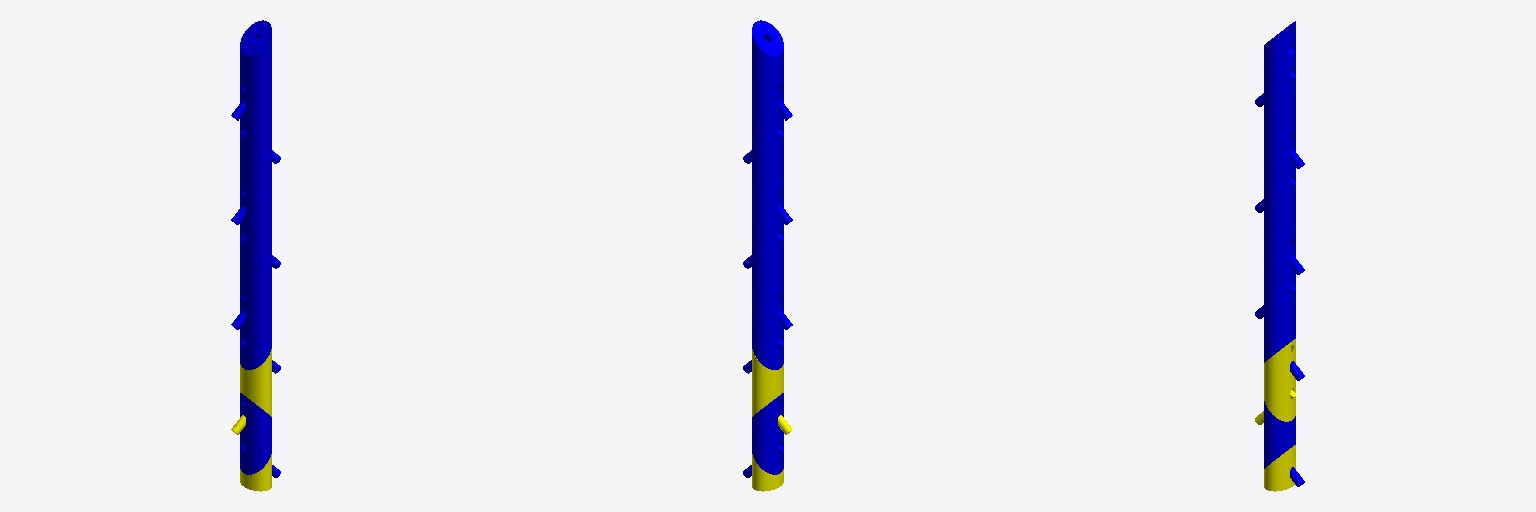
robot.urdf — lisa:
<?xml version="1.0"?>

<robot name="lisa">
	<link name="world"/>

    <joint name="base_joint" type="fixed">
    		<parent link="world"/>
    		<child link="base_link"/>
    		<origin xyz="0 0 0" rpy="0 0 0" />
  	</joint>

	<link name="base_link">
   		<inertial>
      		<origin xyz="0.0 0.0 0.0" rpy="0 0 0"/>
      		<mass value="0.0"/>
      		<inertia ixx="0.0" ixy="0.0" ixz="0.0" iyy="0.0" iyz="0.0" izz="0.0"/>
    	</inertial>
		
		<visual>
			<geometry>
				<mesh filename = "package://elissa3_homer/lisa_parts/Basis_3.stl" scale="0.01 0.01 0.01"/> <!--scale from mm to m should be 0.001--> <!--scale="0.01 0.01 0.01"--> 
			</geometry>
				
			<!--origin - the reference frame of the visual element with respect to the reference frame of the link -->
			<!--rpy -r is roll, p-pitch and y-yaw (Eulerwinkel) -->
			<!--xyz - x,y,z -offsets -->
			<origin xyz="0 0 0" rpy="0 0 0" />
			<material name="yellow">
				<color rgba="1 1 0 1"/>
			</material>
		</visual>
		
    	<collision>
      		<origin xyz="0.0 0.0 0.0" rpy="0 0 0"/>
      		<geometry>
        		<mesh filename = "package://elissa3_homer/lisa_parts/Basis_3.stl" scale="0.01 0.01 0.01"/>
      		</geometry>
    	</collision>	
	</link>

	<joint name="joint_1" type="revolute"> <!-- maybe continous -->
		<parent link="base_link"/>
		<child link="link_1"/>
		<origin xyz="0 0 0.25" rpy="0 -0.7854 0"/>
		<axis xyz="0 0 1"/>
		<limit effort="300" velocity="2.0" lower="-6" upper="6"/>
		<dynamics damping="0.1"/>
	</joint>
	
	<link name="link_1">
		<inertial>
      		<origin xyz="0.0 0 0.0" rpy="0 0 0" />
      		<mass value="0.0"/>
      		<inertia ixx="0.0" ixy="0.0" ixz="0.0" iyy="0.0" iyz="0.0" izz="0.0"/>
    	</inertial>
    		
		<visual>
			<geometry>
				<mesh filename = "package://elissa3_homer/lisa_parts/Glied_3_NeuX.stl" scale="0.01 0.01 0.01"/> <!--scale="0.01 0.01 0.01"--> 
			</geometry>
			<origin xyz="0.0 0 0" rpy="0 0 0" />
			<material name="blue">
				<color rgba="0 0 1 1"/>
			</material>
		</visual>
		<collision>
      		<origin xyz="0.0 0 0.0" rpy="0 0 0" />
      		<geometry>
        		<mesh filename = "package://elissa3_homer/lisa_parts/Glied_3.stl" scale="0.01 0.01 0.01"/> <!--scale="0.01 0.01 0.01"-->
      		</geometry>
    	</collision>
 	</link>
	
	<joint name="joint_2" type="revolute"> <!-- maybe continous -->
		<parent link="link_1"/>
		<child link="link_2"/>
		<origin xyz="0.35355 0 0.35355" rpy="0 1.5708 0"/>
		<axis xyz="0 0 1"/>
		<limit effort="300" velocity="2.0" lower="-6" upper="6"/>
		<dynamics damping="0.1"/>
	</joint>

	<link name="link_2">
		<inertial>
      		<origin xyz="0.0 0 0.0" rpy="0 0 0" />
      		<mass value="0.0"/>
      		<inertia ixx="0.0" ixy="0.0" ixz="0.0" iyy="0.0" iyz="0.0" izz="0.0"/>
    	</inertial>
    		
		<visual>
			<geometry>
				<mesh filename = "package://elissa3_homer/lisa_parts/Glied_3_NeuX.stl" scale="0.01 0.01 0.01"/> <!--scale="0.01 0.01 0.01"--> 
			</geometry>
			<origin xyz="0.0 0 0" rpy="0 0 3.1416" />
			<material name="yellow">
				<color rgba="1 1 0 1"/>
			</material>
		</visual>
		<collision>
      		<origin xyz="0.0 0 0.0" rpy="0 0 0" />
      		<geometry>
        		<mesh filename = "package://elissa3_homer/lisa_parts/Glied_3.stl" scale="0.01 0.01 0.01"/> <!--scale="0.01 0.01 0.01"-->
      		</geometry>
    	</collision>
 	</link>

	<joint name="joint_3" type="revolute"> <!-- maybe continous -->
		<parent link="link_2"/>
		<child link="link_3"/>
		<origin xyz="-0.35355 0 0.35355" rpy="0 -1.5708  0"/>
		<axis xyz="0 0 1"/>
		<limit effort="300" velocity="2.0" lower="-6" upper="6"/>
		<dynamics damping="0.1"/>
	</joint>

	<link name="link_3">
		<inertial>
      		<origin xyz="0.0 0 0.0" rpy="0 0 0" />
      		<mass value="0.0"/>
      		<inertia ixx="0.0" ixy="0.0" ixz="0.0" iyy="0.0" iyz="0.0" izz="0.0"/>
    	</inertial>
    		
		<visual>
			<geometry>
				<mesh filename = "package://elissa3_homer/lisa_parts/Glied_3_NeuX.stl" scale="0.01 0.01 0.01"/> <!--scale="0.01 0.01 0.01"--> 
			</geometry>
			<origin xyz="0.0 0 0" rpy="0 0 0" />
			<material name="blue">
				<color rgba="0 0 1 1"/>
			</material>
		</visual>
		<collision>
      		<origin xyz="0.0 0 0.0" rpy="0 0 0" />
      		<geometry>
        		<mesh filename = "package://elissa3_homer/lisa_parts/Glied_3.stl" scale="0.01 0.01 0.01"/> <!--scale="0.01 0.01 0.01"-->
      		</geometry>
    	</collision>

	</link>

	<joint name="joint_4" type="revolute"> <!-- maybe continous -->
		<parent link="link_3"/>
		<child link="link_4"/>
		<origin xyz="0.35355 0 0.35355" rpy="0 1.5708 0"/>
		<axis xyz="0 0 1"/>
		<limit effort="300" velocity="2.0" lower="-6" upper="6"/>
		<dynamics damping="0.1"/>
	</joint>
	
	<link name="link_4">
		<inertial>
      		<origin xyz="0.0 0 0.0" rpy="0 0 0" />
      		<mass value="0.0"/>
      		<inertia ixx="0.0" ixy="0.0" ixz="0.0" iyy="0.0" iyz="0.0" izz="0.0"/>
    	</inertial>
    		
		<visual>
			<geometry>
				<mesh filename = "package://elissa3_homer/lisa_parts/Glied_3_NeuX.stl" scale="0.01 0.01 0.01"/> <!--scale="0.01 0.01 0.01"--> 
			</geometry>
			<origin xyz="0.0 0 0" rpy="0 0  3.1416" />
			<material name="yellow">
				<color rgba="0 0 1 1"/>
			</material>
		</visual>
		<collision>
      		<origin xyz="0.0 0 0.0" rpy="0 0 0" />
      		<geometry>
        		<mesh filename = "package://elissa3_homer/lisa_parts/Glied_3.stl" scale="0.01 0.01 0.01"/> <!--scale="0.01 0.01 0.01"-->
      		</geometry>
    	</collision>
 	</link>

	<joint name="joint_5" type="revolute"> <!-- maybe continous -->
		<parent link="link_4"/>
		<child link="link_5"/>
		<origin xyz="-0.35355 0 0.35355" rpy="0 -1.5708 0"/>
		<axis xyz="0 0 1"/>
		<limit effort="300" velocity="2.0" lower="-6" upper="6"/>
		<dynamics damping="0.1"/>
	</joint>

	<link name="link_5">
		<inertial>
      		<origin xyz="0.0 0 0.0" rpy="0 0 0" />
      		<mass value="0.0"/>
      		<inertia ixx="0.0" ixy="0.0" ixz="0.0" iyy="0.0" iyz="0.0" izz="0.0"/>
    	</inertial>
    		
		<visual>
			<geometry>
				<mesh filename = "package://elissa3_homer/lisa_parts/Glied_3_NeuX.stl" scale="0.01 0.01 0.01"/> <!--scale="0.01 0.01 0.01"--> 
			</geometry>
			<origin xyz="0.0 0 0" rpy="0 0  0" />
			<material name="blue">
				<color rgba="0 0 1 1"/>
			</material>
		</visual>
		<collision>
      		<origin xyz="0.0 0 0.0" rpy="0 0 0" />
      		<geometry>
        		<mesh filename = "package://elissa3_homer/lisa_parts/Glied_3.stl" scale="0.01 0.01 0.01"/> <!--scale="0.01 0.01 0.01"-->
      		</geometry>
    	</collision>
 	</link>

	<joint name="joint_6" type="revolute"> <!-- maybe continous -->
		<parent link="link_5"/>
		<child link="link_6"/>
		<origin xyz="0.35355 0 0.35355" rpy="0 1.5708 0"/>
		<axis xyz="0 0 1"/>
		<limit effort="300" velocity="2.0" lower="-6" upper="6"/>
		<dynamics damping="0.1"/>
	</joint>

	<link name="link_6">
		<inertial>
      		<origin xyz="0.0 0 0.0" rpy="0 0 0" />
      		<mass value="0.0"/>
      		<inertia ixx="0.0" ixy="0.0" ixz="0.0" iyy="0.0" iyz="0.0" izz="0.0"/>
    	</inertial>
    		
		<visual>
			<geometry>
				<mesh filename = "package://elissa3_homer/lisa_parts/Glied_3_NeuX.stl" scale="0.01 0.01 0.01"/> <!--scale="0.01 0.01 0.01"--> 
			</geometry>
			<origin xyz="0.0 0 0" rpy="0 0 3.1416" />
			<material name="yellow">
				<color rgba="0 0 1 1"/>
			</material>
		</visual>
		<collision>
      		<origin xyz="0.0 0 0.0" rpy="0 0 0" />
      		<geometry>
        		<mesh filename = "package://elissa3_homer/lisa_parts/Glied_3.stl" scale="0.01 0.01 0.01"/> <!--scale="0.01 0.01 0.01"-->
      		</geometry>
    	</collision>
 	</link>

	<joint name="joint_7" type="revolute"> <!-- maybe continous -->
		<parent link="link_6"/>
		<child link="link_7"/>
		<origin xyz="-0.35355 0 0.35355" rpy="0 -1.5708 0"/>
		<axis xyz="0 0 1"/>
		<limit effort="300" velocity="2.0" lower="-6" upper="6"/>
		<dynamics damping="0.1"/>
	</joint>

	<link name="link_7">
		<inertial>
      		<origin xyz="0.0 0 0.0" rpy="0 0 0" />
      		<mass value="0.0"/>
      		<inertia ixx="0.0" ixy="0.0" ixz="0.0" iyy="0.0" iyz="0.0" izz="0.0"/>
    	</inertial>
    		
		<visual>
			<geometry>
				<mesh filename = "package://elissa3_homer/lisa_parts/Glied_3_NeuX.stl" scale="0.01 0.01 0.01"/> <!--scale="0.01 0.01 0.01"--> 
			</geometry>
			<origin xyz="0.0 0 0" rpy="0 0  0" />
			<material name="blue">
				<color rgba="0 0 1 1"/>
			</material>
		</visual>
		<collision>
      		<origin xyz="0.0 0 0.0" rpy="0 0 0" />
      		<geometry>
        		<mesh filename = "package://elissa3_homer/lisa_parts/Glied_3.stl" scale="0.01 0.01 0.01"/> <!--scale="0.01 0.01 0.01"-->
      		</geometry>
    	</collision>
 	</link>

	<joint name="joint_8" type="revolute"> <!-- maybe continous -->
		<parent link="link_7"/>
		<child link="link_8"/>
		<origin xyz="0.35355 0 0.35355" rpy="0 1.5708 0"/>
		<axis xyz="0 0 1"/>
		<limit effort="300" velocity="2.0" lower="-6" upper="6"/>
		<dynamics damping="0.1"/>
	</joint>

	<link name="link_8">
		<inertial>
      		<origin xyz="0.0 0 0.0" rpy="0 0 0" />
      		<mass value="0.0"/>
      		<inertia ixx="0.0" ixy="0.0" ixz="0.0" iyy="0.0" iyz="0.0" izz="0.0"/>
    	</inertial>
    		
		<visual>
			<geometry>
				<mesh filename = "package://elissa3_homer/lisa_parts/Glied_3_NeuX.stl" scale="0.01 0.01 0.01"/> <!--scale="0.01 0.01 0.01"--> 
			</geometry>
			<origin xyz="0.0 0 0" rpy="0 0 3.1416" />
			<material name="yellow">
				<color rgba="0 0 1 1"/>
			</material>
		</visual>
		<collision>
      		<origin xyz="0.0 0 0.0" rpy="0 0 0" />
      		<geometry>
        		<mesh filename = "package://elissa3_homer/lisa_parts/Glied_3.stl" scale="0.01 0.01 0.01"/> <!--scale="0.01 0.01 0.01"-->
      		</geometry>
    	</collision>
 	</link>


</robot> 

--- Facts derived from the render (not from the file) ---
3 views of the same robot in one strip: view 1: azimuth 30°, elevation 25°; view 2: azimuth 150°, elevation 25°; view 3: azimuth 330°, elevation 25° (orthographic).
Robot: lisa — 10 links, 9 joints (8 revolute, 1 fixed); root link world; default pose: every joint at zero.
Links seen in each view (by area): view 1: link_8, link_3, link_1, link_5, link_7, link_6, link_4, link_2, base_link; view 2: link_8, link_3, link_5, link_1, link_7, link_6, link_4, link_2, base_link; view 3: link_8, link_4, link_2, link_6, link_1, link_7, link_5, link_3, base_link.
Boxes of the visible links, x1,y1,x2,y2 form: link_8: [231, 20, 271, 120]; link_3: [240, 288, 280, 373]; link_1: [240, 393, 280, 477]; link_5: [240, 183, 280, 268]; link_7: [240, 78, 280, 163]; link_6: [231, 139, 271, 224]; link_4: [231, 244, 271, 329]; link_2: [231, 349, 271, 434]; base_link: [240, 454, 271, 491]; link_8: [752, 20, 792, 120]; link_3: [743, 288, 783, 373]; link_5: [743, 183, 783, 268]; link_1: [743, 393, 783, 477]; link_7: [743, 78, 783, 163]; link_6: [752, 139, 792, 224]; link_4: [752, 244, 792, 329]; link_2: [752, 349, 792, 434]; base_link: [752, 454, 783, 491]; link_8: [1255, 21, 1295, 106]; link_4: [1255, 233, 1295, 318]; link_2: [1255, 339, 1295, 424]; link_6: [1255, 127, 1295, 212]; link_1: [1264, 401, 1304, 486]; link_7: [1264, 83, 1304, 168]; link_5: [1264, 189, 1304, 274]; link_3: [1264, 295, 1304, 380]; base_link: [1264, 445, 1295, 491].
Bounding box of the posed robot: 0.4809 × 0.3513 × 4.37 m (x, y, z).
Meshes: 2 distinct files referenced, 9 mesh visuals loaded (2 binary STL).
